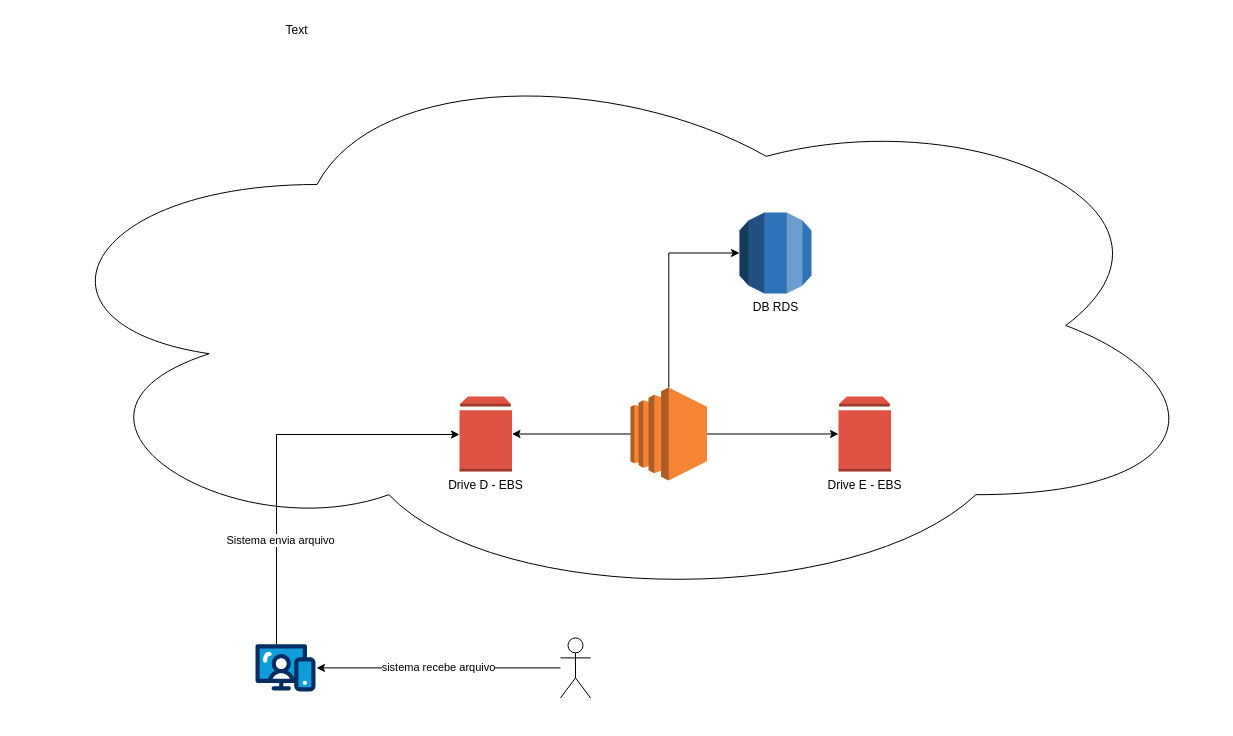
The diagram is 1233 pixels wide and 736 high, and some of its shapes have lost their labels. Each missing label, with the box of its shape:
Actor: (560, 637, 590, 698)
EC2: (630, 386, 707, 480)
